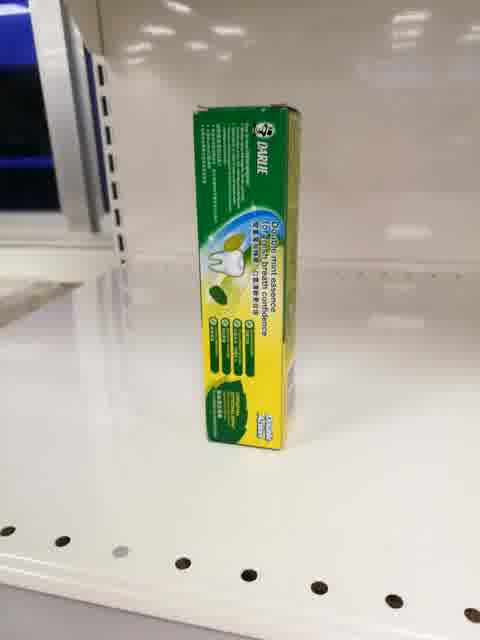toothpaste: (192, 105, 303, 451)
